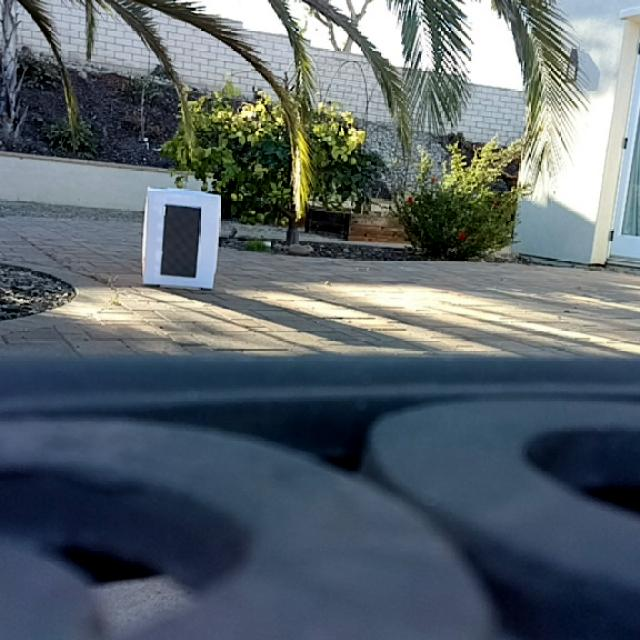led: (163, 206, 200, 279)
